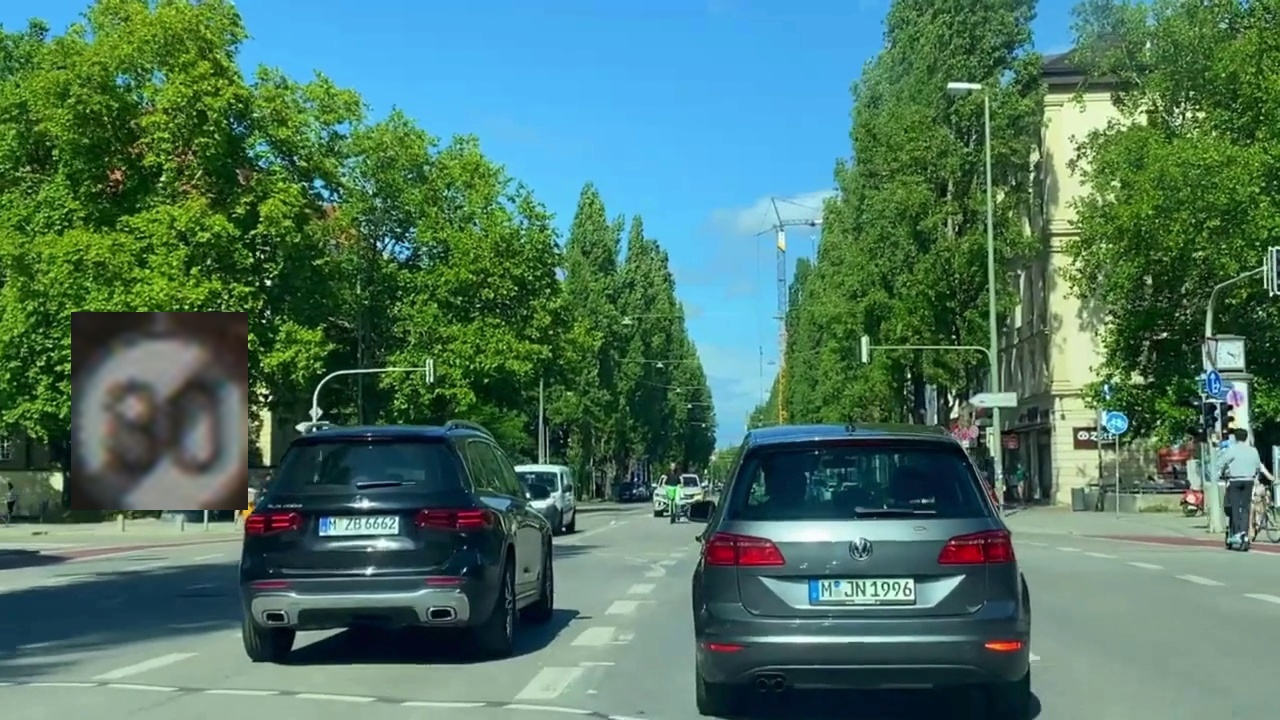End Speed 80: (71, 312, 248, 510)
